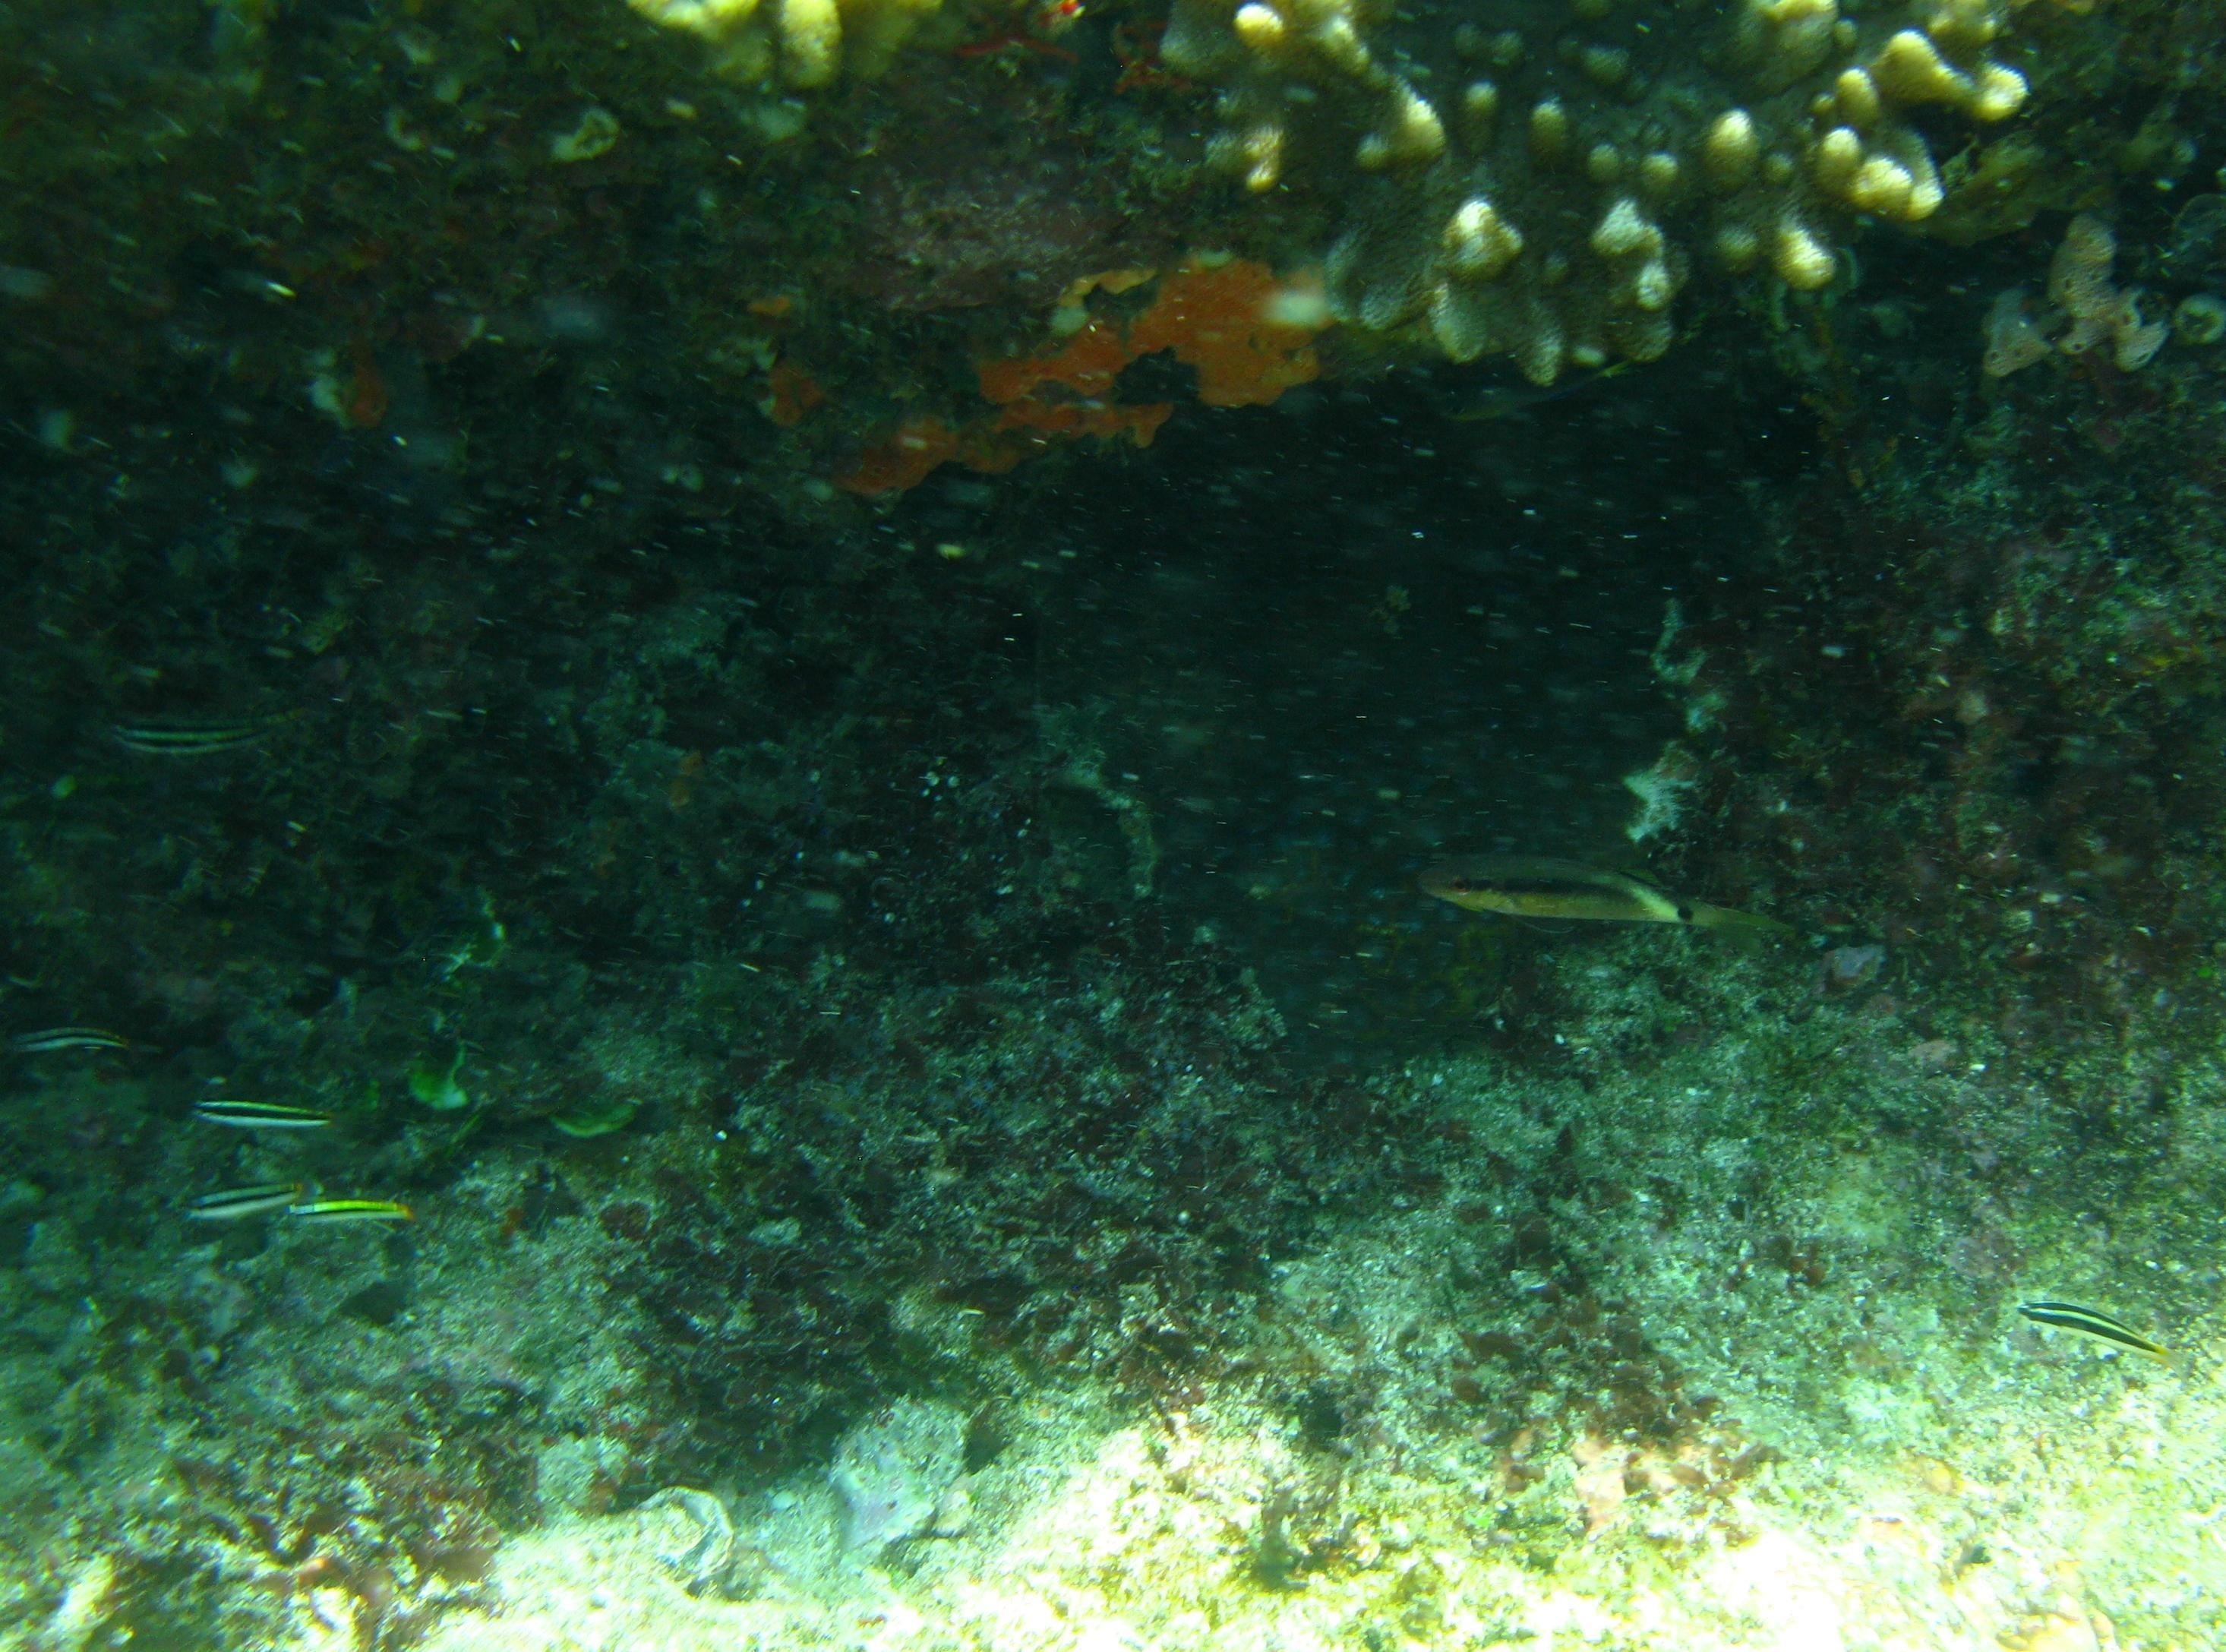Thalassoma amblycephalum: (1967, 1256, 2200, 1407), (168, 1088, 363, 1147), (154, 1173, 321, 1236), (0, 1010, 149, 1071)
